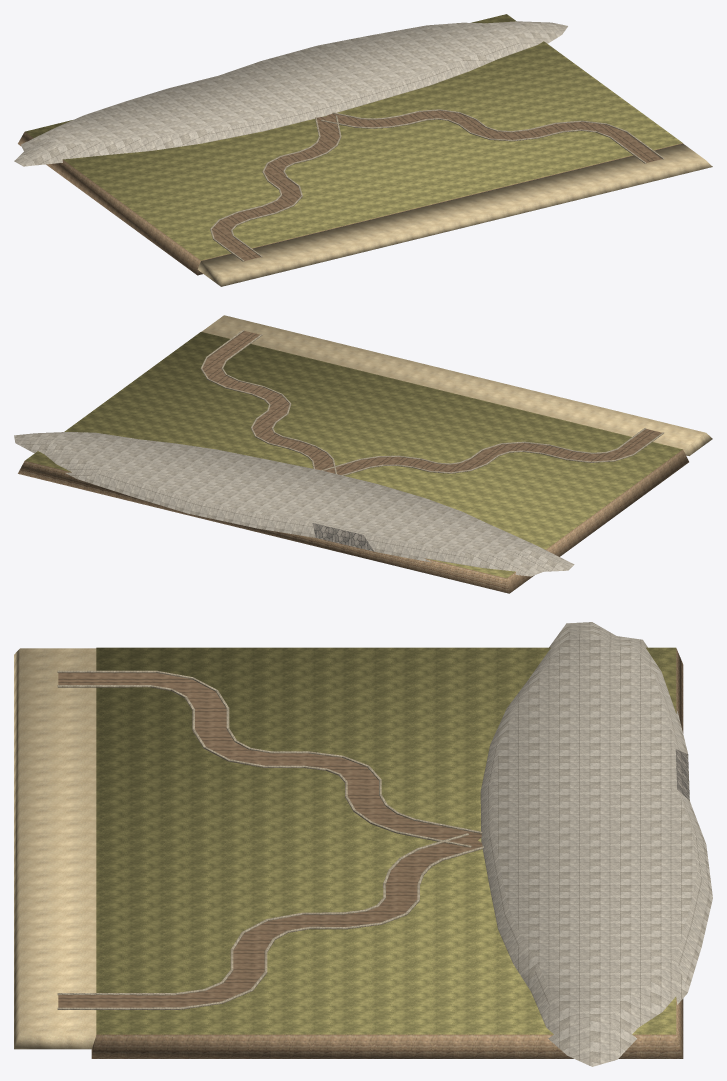
Rendered from 09_MuryTroi_teren.glb.
3 renders of one model, top to bottom at view 1: azimuth 30°, elevation 25°; view 2: azimuth 150°, elevation 25°; view 3: azimuth 270°, elevation 25°, orthographic. The views are drawn at different scales.
Parts seen in each view (by area): view 1: plain, citadel, beach.001, path_1.003, path_0.008; view 2: plain, citadel, beach.001, path_1.003, path_0.008; view 3: plain, citadel, beach.001, path_0.008, path_1.003.
Part boxes in pixels (bbox=[...]): plain: bbox=[18, 14, 682, 275]; citadel: bbox=[14, 21, 567, 166]; beach.001: bbox=[197, 143, 712, 286]; path_1.003: bbox=[323, 110, 662, 162]; path_0.008: bbox=[212, 116, 339, 260]; plain: bbox=[18, 332, 688, 593]; citadel: bbox=[14, 432, 574, 576]; beach.001: bbox=[201, 315, 712, 455]; path_1.003: bbox=[202, 331, 335, 473]; path_0.008: bbox=[324, 429, 661, 474]; plain: bbox=[91, 647, 683, 1058]; citadel: bbox=[480, 622, 712, 1066]; beach.001: bbox=[14, 648, 96, 1049]; path_0.008: bbox=[58, 672, 481, 844]; path_1.003: bbox=[58, 836, 482, 1007].
Size of what is drawn, in the model's own units: 276 by 10 by 183.
7 materials, 7 textured.
